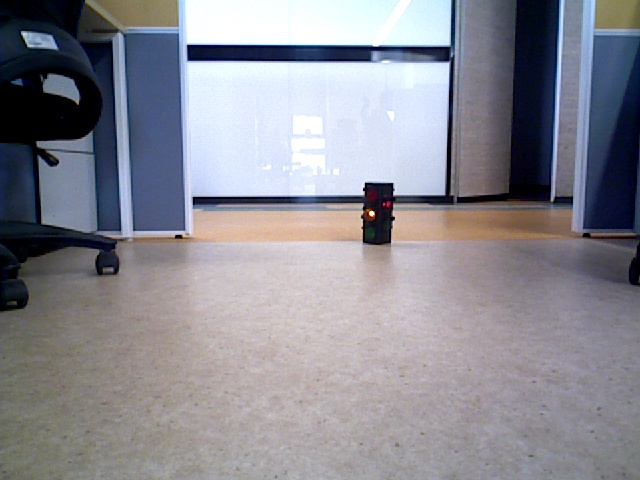yellow: (365, 185, 390, 241)
